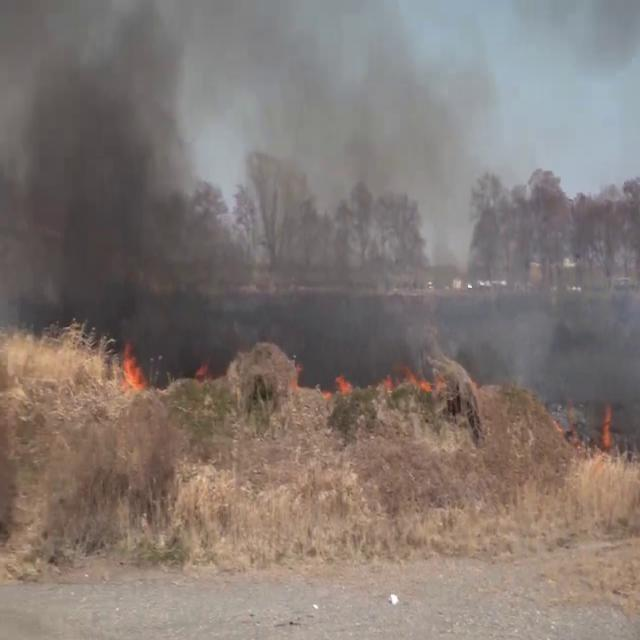Fire: (594, 396, 618, 457)
Smoke: (1, 0, 634, 416)
